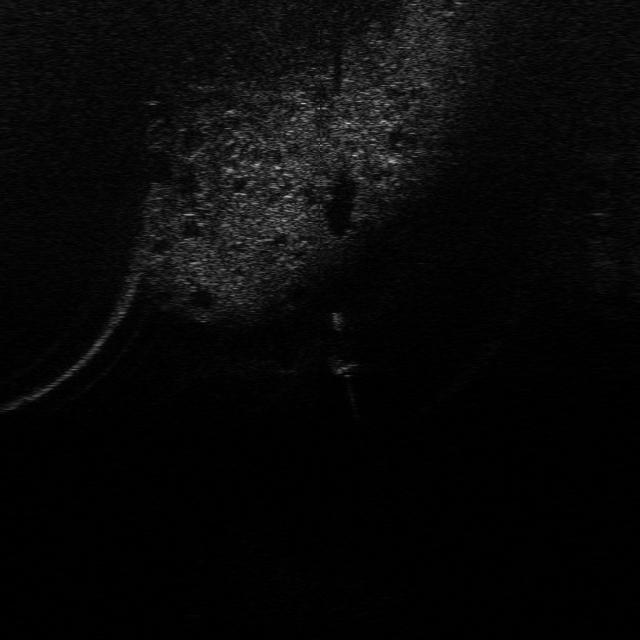cube: (322, 353, 362, 378)
cylinder: (323, 308, 349, 338)
